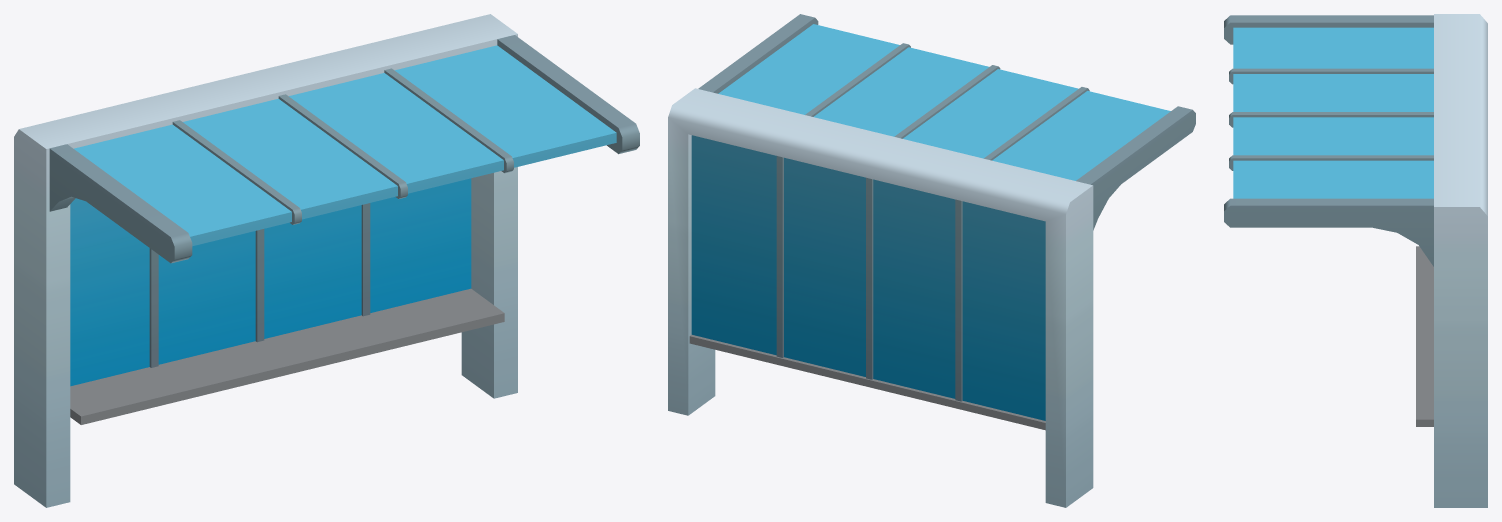
File: city2-bus-stop-01.glb
3 renders of one model, left to right at view 1: azimuth 30°, elevation 25°; view 2: azimuth 150°, elevation 25°; view 3: azimuth 270°, elevation 25°, orthographic. The views are drawn at different scales.
Parts seen in each view (by area): view 1: Bus_Stop_01; view 2: Bus_Stop_01; view 3: Bus_Stop_01.
Boxes of the visible parts, x1=… form: Bus_Stop_01: x1=14, y1=14, x2=639, y2=507; Bus_Stop_01: x1=668, y1=14, x2=1195, y2=507; Bus_Stop_01: x1=1224, y1=14, x2=1487, y2=507.
Size of the model in its own units: 3.44 by 2.5 by 1.98.
Materials: 2 (2 with a texture image).
